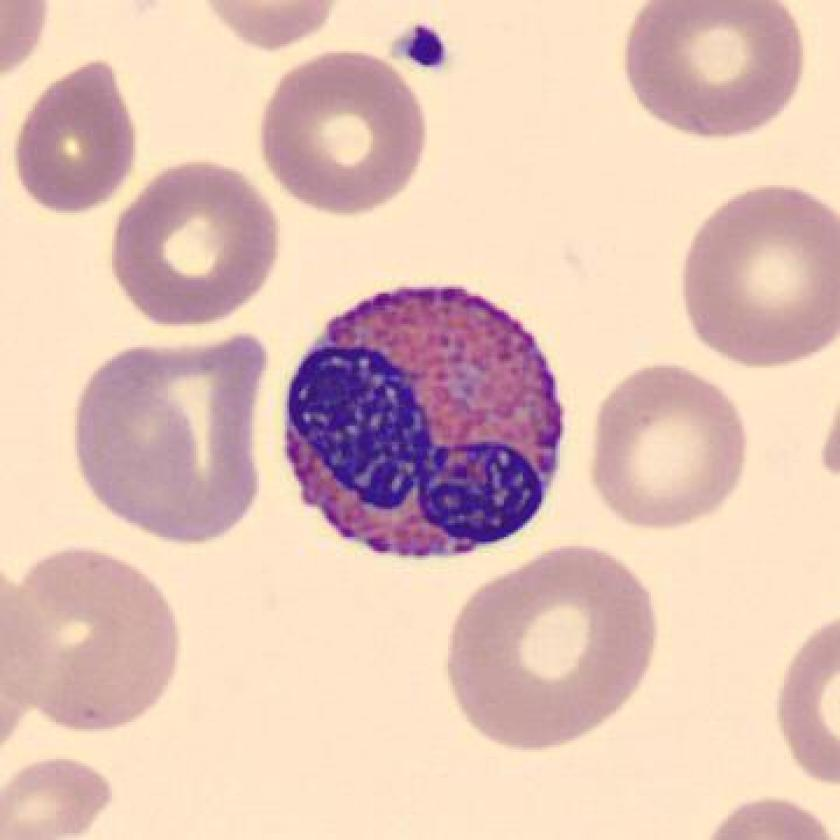eosinophil: (269, 267, 580, 582)
